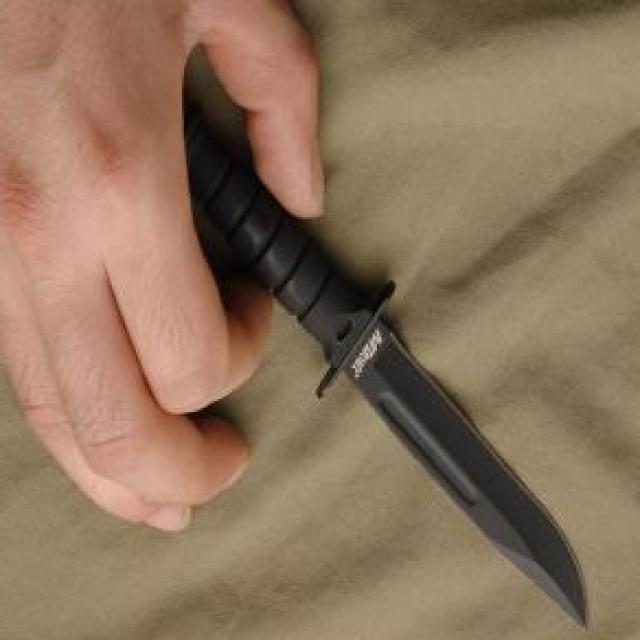knife: (87, 14, 594, 640)
